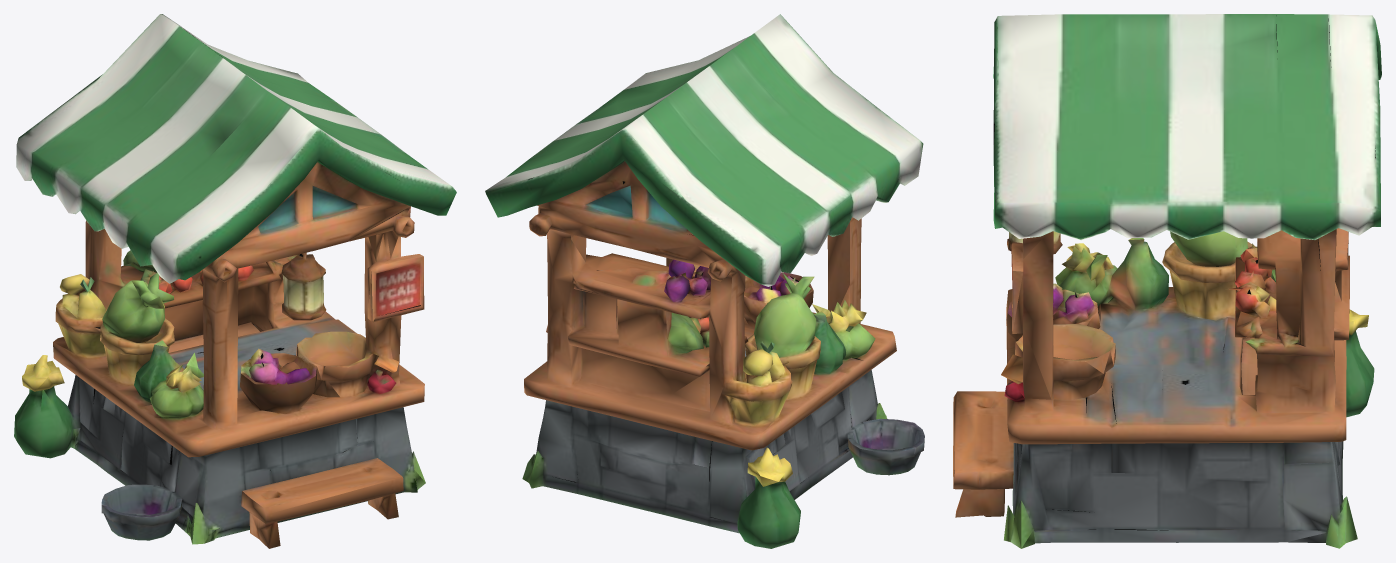
Rendered from awning_stall_3_6000.glb.
3 views of the same model, side by side, from view 1: azimuth 30°, elevation 25°; view 2: azimuth 150°, elevation 25°; view 3: azimuth 270°, elevation 25° (orthographic). The views are drawn at different scales.
Parts seen in each view (by area): view 1: t6000; view 2: t6000; view 3: t6000.
Part boxes in pixels (bbox=[...]): t6000: bbox=[14, 14, 456, 548]; t6000: bbox=[485, 14, 924, 548]; t6000: bbox=[953, 14, 1381, 548].
Bounding box in the file's own units: 1.61 × 1.9 × 1.58.
Materials: 1 (1 with a texture image).
